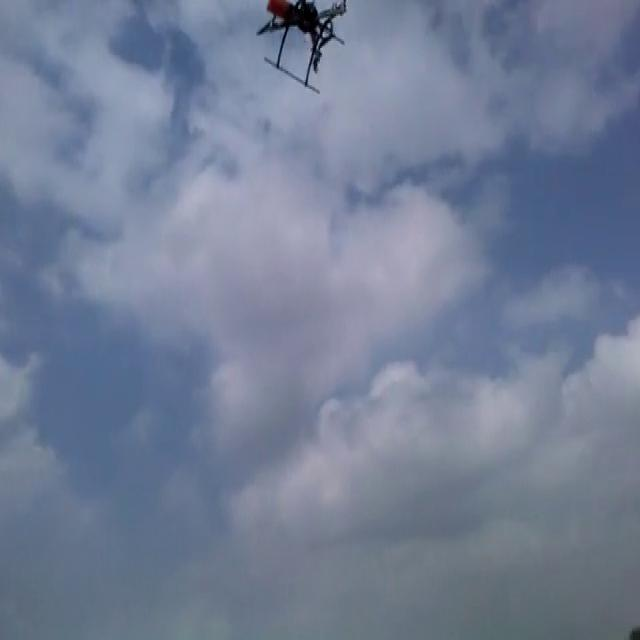drone: (254, 0, 346, 96)
